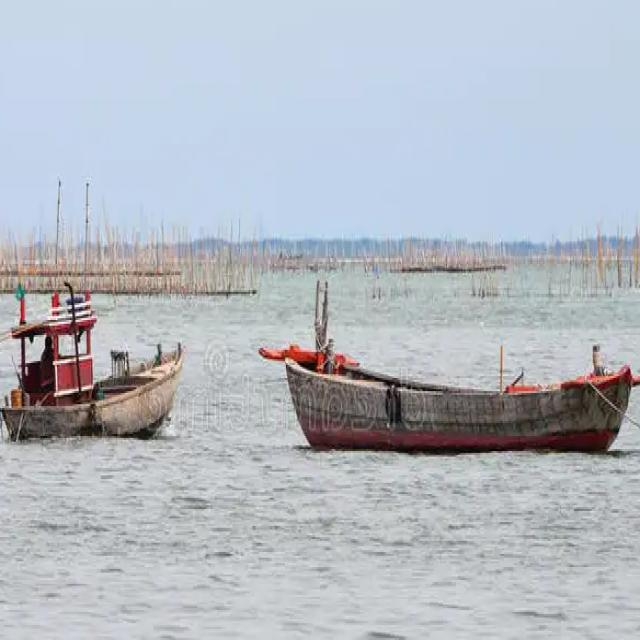fishing boat: (272, 285, 630, 452), (0, 266, 193, 442)
